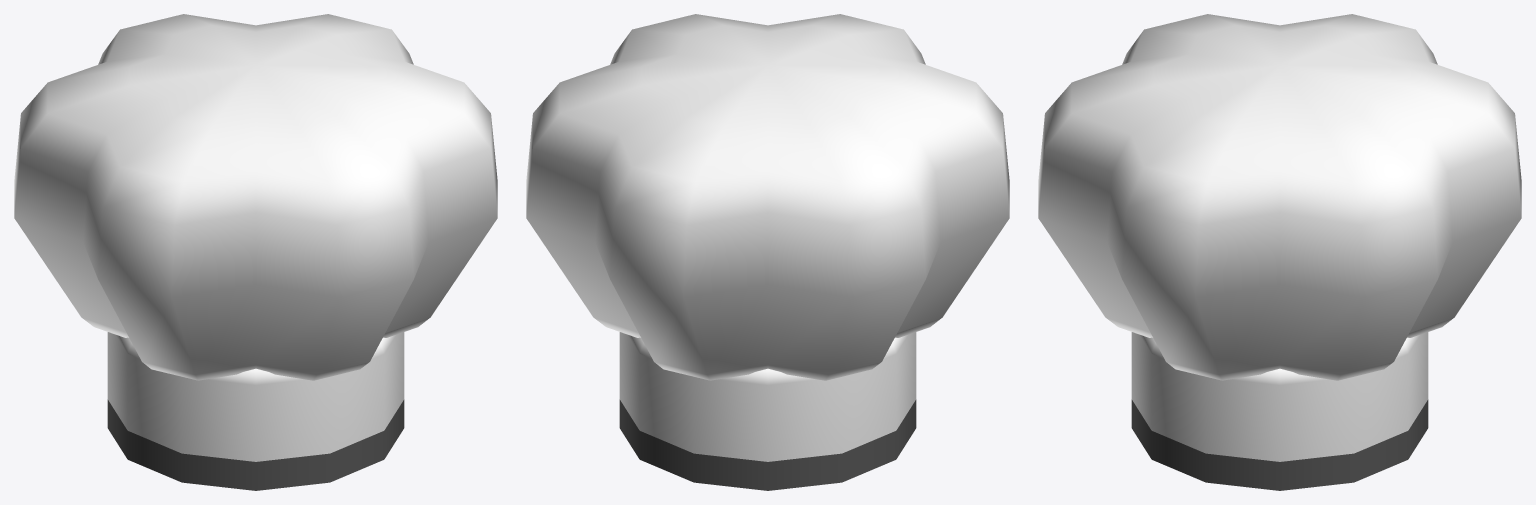
The model's file is Hat_Chef.fbx.
3 renders of one model, left to right at view 1: azimuth 30°, elevation 25°; view 2: azimuth 150°, elevation 25°; view 3: azimuth 270°, elevation 25°, orthographic.
Visible parts, largest first — view 1: Hat_Chef; view 2: Hat_Chef; view 3: Hat_Chef.
Boxes of the visible parts, bbox=[...] form: Hat_Chef: bbox=[14, 14, 497, 490]; Hat_Chef: bbox=[526, 14, 1009, 490]; Hat_Chef: bbox=[1038, 14, 1521, 490].
Size of the model in its own units: 117 by 102 by 123.
